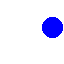circle: (42, 17, 62, 37)
